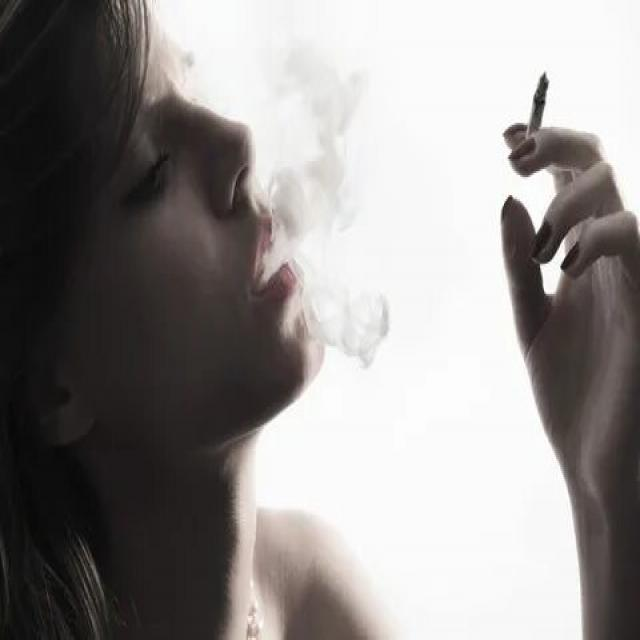cigarette: (521, 64, 552, 151)
